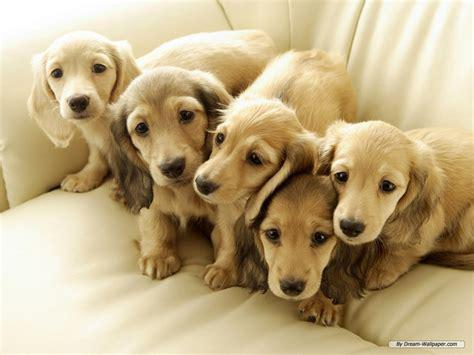dog: (30, 30, 274, 192), (192, 48, 356, 289), (105, 66, 231, 282), (317, 120, 474, 291), (232, 176, 347, 326)
